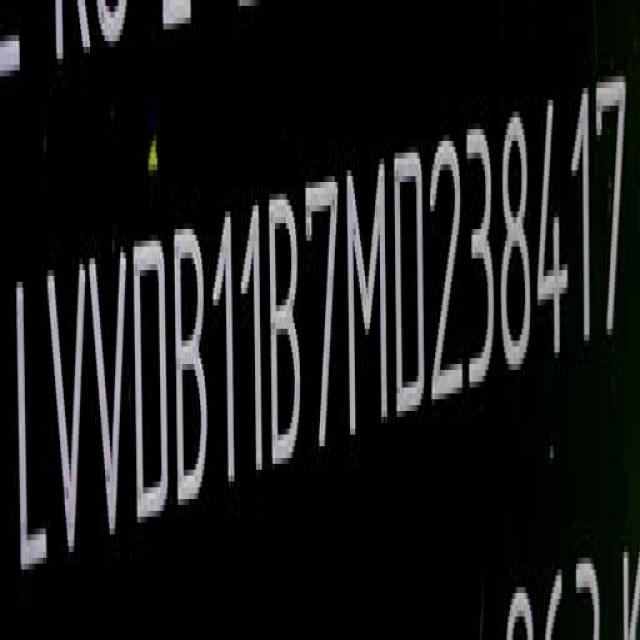1: (240, 194, 266, 492), (213, 213, 238, 496), (572, 83, 597, 348)
2: (427, 139, 463, 396)
3: (462, 122, 494, 402)
4: (536, 93, 570, 374)
7: (306, 176, 339, 470), (596, 66, 628, 342)
8: (498, 116, 533, 392)
B: (265, 189, 305, 481), (172, 224, 212, 509)
D: (134, 233, 170, 522), (394, 146, 426, 418)
L: (12, 283, 50, 574)
M: (345, 163, 388, 433)
V: (46, 246, 86, 556), (87, 250, 128, 550)
